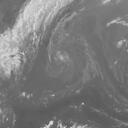cyclone: (44, 39, 95, 79)
